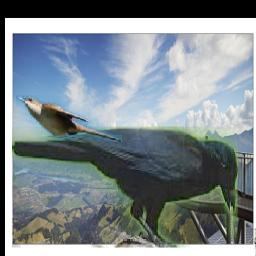Crow: (12, 127, 238, 247)
Cuckoo: (16, 96, 122, 143)
